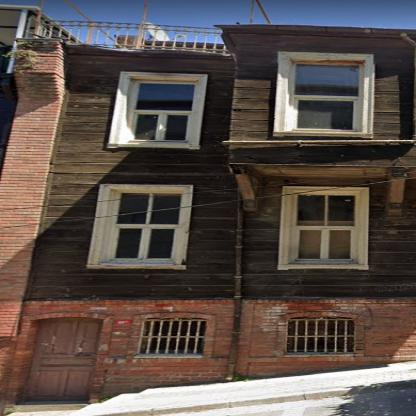door: (28, 322, 101, 398)
window: (109, 190, 182, 259), (290, 63, 359, 130), (131, 83, 197, 141), (298, 193, 356, 259), (140, 321, 205, 353), (288, 321, 352, 352)
